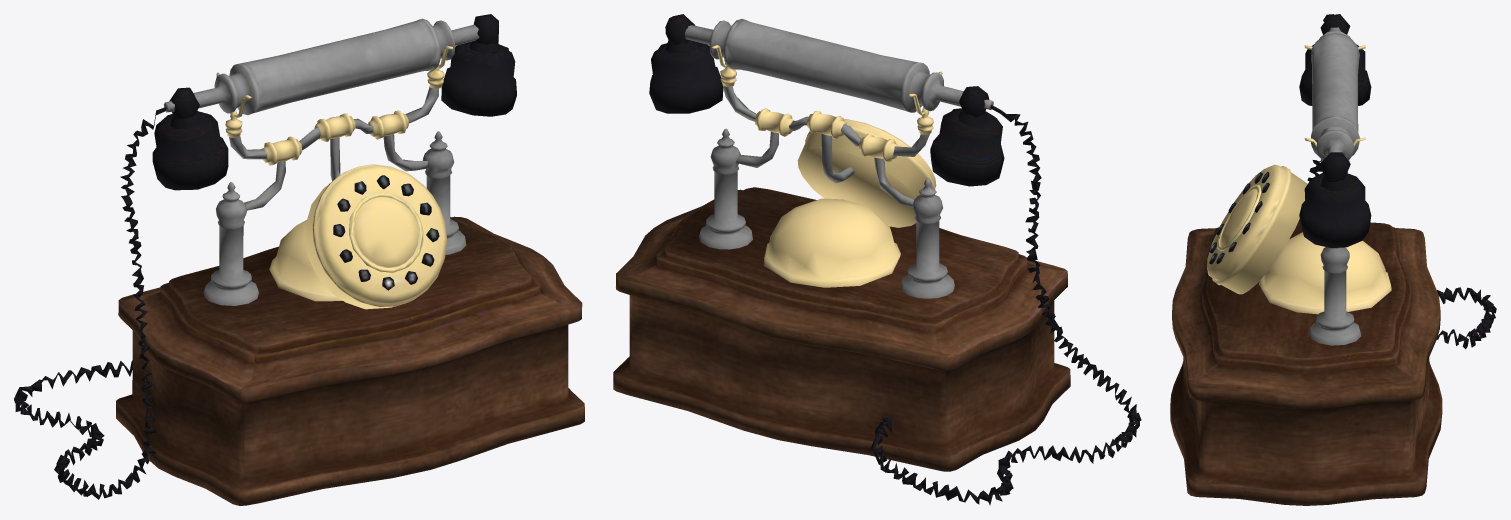
The model's file is st_vintage_phone.gltf.
3 renders of one model, left to right at view 1: azimuth 30°, elevation 25°; view 2: azimuth 150°, elevation 25°; view 3: azimuth 270°, elevation 25°, orthographic. The views are drawn at different scales.
Visible parts, largest first — view 1: vintage_rotary_phone_base.001, vintage_rotary_phone, vintage_rotary_phone_base.003, vintage_rotary_phone.001, vintage_rotary_phone_base, vintage_rotary_phone_base.005, vintage_rotary_phone_base.002, vintage_rotary_phone_base.006, vintage_rotary_phone_base.010, vintage_rotary_phone_base.007, vintage_rotary_phone_base.004, vintage_rotary_phone_base.008 (+2 smaller); view 2: vintage_rotary_phone_base.001, vintage_rotary_phone, vintage_rotary_phone_base.006, vintage_rotary_phone.001, vintage_rotary_phone_base.005, vintage_rotary_phone_base.003, vintage_rotary_phone_base, vintage_rotary_phone_base.010, vintage_rotary_phone_base.007, vintage_rotary_phone.003, vintage_rotary_phone_base.008, vintage_rotary_phone.002 (+1 smaller); view 3: vintage_rotary_phone_base.001, vintage_rotary_phone_base.006, vintage_rotary_phone_base.003, vintage_rotary_phone, vintage_rotary_phone.001, vintage_rotary_phone_base.005, vintage_rotary_phone_base, vintage_rotary_phone_base.002, vintage_rotary_phone.003, vintage_rotary_phone_base.004.
Part boxes in pixels (bbox=[...]): vintage_rotary_phone_base.001: bbox=[116, 216, 584, 505]; vintage_rotary_phone: bbox=[164, 18, 479, 115]; vintage_rotary_phone_base.003: bbox=[305, 164, 447, 309]; vintage_rotary_phone.001: bbox=[152, 41, 516, 190]; vintage_rotary_phone_base: bbox=[14, 107, 166, 499]; vintage_rotary_phone_base.005: bbox=[203, 131, 466, 305]; vintage_rotary_phone_base.002: bbox=[349, 193, 423, 272]; vintage_rotary_phone_base.006: bbox=[269, 220, 342, 301]; vintage_rotary_phone_base.010: bbox=[262, 110, 408, 165]; vintage_rotary_phone_base.007: bbox=[244, 134, 428, 210]; vintage_rotary_phone_base.004: bbox=[333, 175, 439, 290]; vintage_rotary_phone_base.008: bbox=[229, 86, 438, 159]; vintage_rotary_phone_base.001: bbox=[613, 187, 1070, 471]; vintage_rotary_phone: bbox=[685, 19, 993, 112]; vintage_rotary_phone_base.006: bbox=[764, 198, 900, 287]; vintage_rotary_phone.001: bbox=[649, 41, 1004, 186]; vintage_rotary_phone_base.005: bbox=[699, 128, 954, 298]; vintage_rotary_phone_base.003: bbox=[797, 119, 936, 227]; vintage_rotary_phone_base: bbox=[870, 105, 1141, 505]; vintage_rotary_phone_base.010: bbox=[754, 108, 898, 161]; vintage_rotary_phone_base.007: bbox=[736, 132, 914, 207]; vintage_rotary_phone.003: bbox=[665, 14, 989, 117]; vintage_rotary_phone_base.008: bbox=[723, 86, 929, 156]; vintage_rotary_phone.002: bbox=[666, 40, 987, 126]; vintage_rotary_phone_base.001: bbox=[1170, 219, 1442, 505]; vintage_rotary_phone_base.006: bbox=[1259, 232, 1391, 314]; vintage_rotary_phone_base.003: bbox=[1207, 164, 1307, 294]; vintage_rotary_phone: bbox=[1311, 27, 1359, 160]; vintage_rotary_phone.001: bbox=[1299, 44, 1371, 247]; vintage_rotary_phone_base.005: bbox=[1309, 159, 1361, 345]; vintage_rotary_phone_base: bbox=[1307, 14, 1496, 349]; vintage_rotary_phone_base.002: bbox=[1217, 184, 1261, 250]; vintage_rotary_phone.003: bbox=[1320, 14, 1350, 182]; vintage_rotary_phone_base.004: bbox=[1209, 172, 1269, 264].
Size of the model in its own units: 0.4352 by 0.3133 by 0.2714.
Materials: 1 (1 with a texture image).
